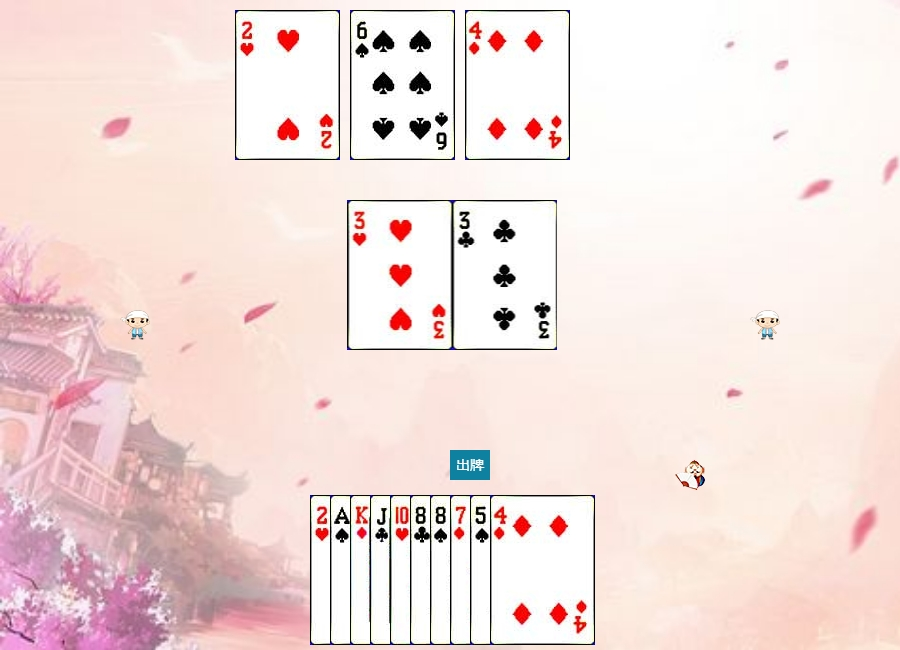10~3: (390, 495, 495, 645)
11~2: (370, 495, 475, 645)
13~1: (350, 495, 455, 645)
14~4: (330, 495, 435, 645)
15~3: (235, 10, 340, 160), (310, 495, 415, 645)
3~2: (453, 200, 558, 350)
3~3: (348, 200, 453, 350)
4~1: (465, 10, 570, 160), (490, 495, 595, 645)
5~4: (470, 495, 575, 645)
6~4: (350, 10, 455, 160)
7~1: (450, 495, 555, 645)
8~2: (410, 495, 515, 645)
8~4: (430, 495, 535, 645)
